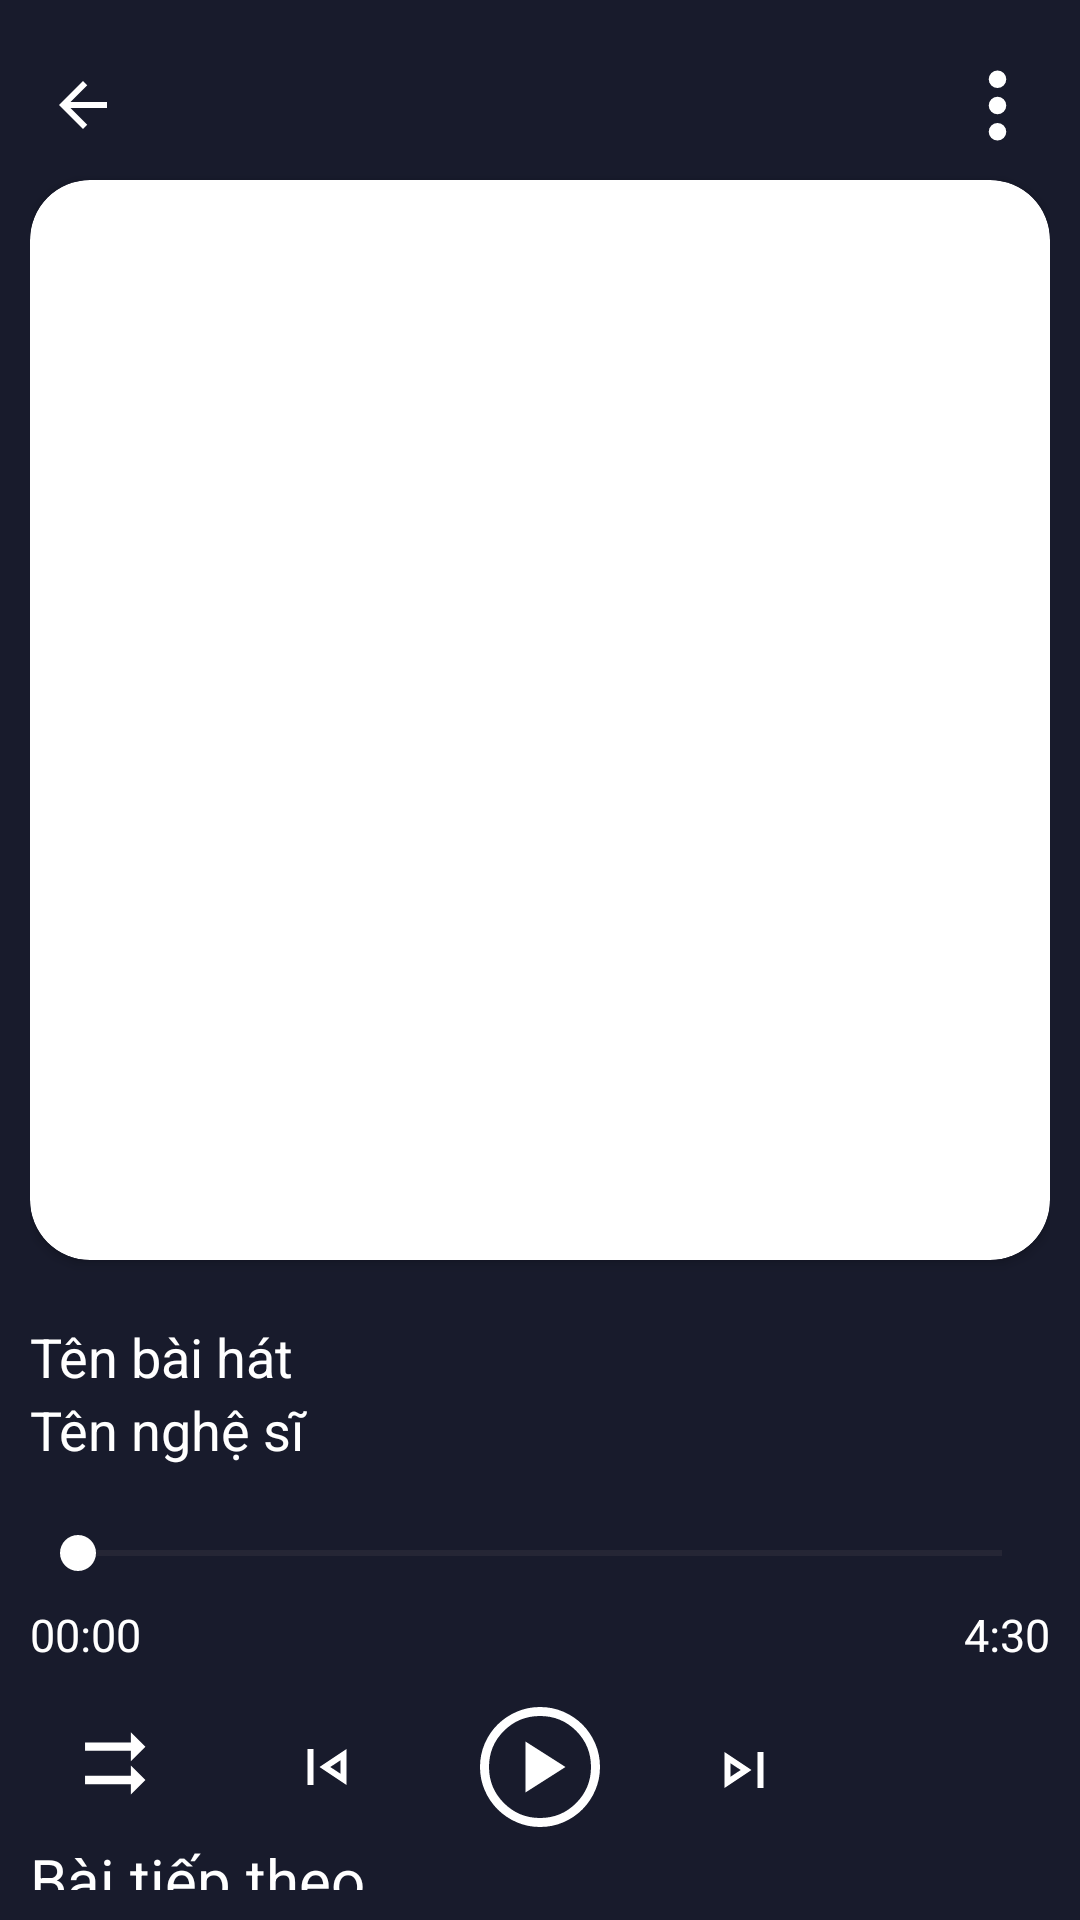

Where to tap for icons on this 1080w x 1920h app screen, as (x,y):
arrow back: (83,105)
more: (997,105)
play: (540,1767)
